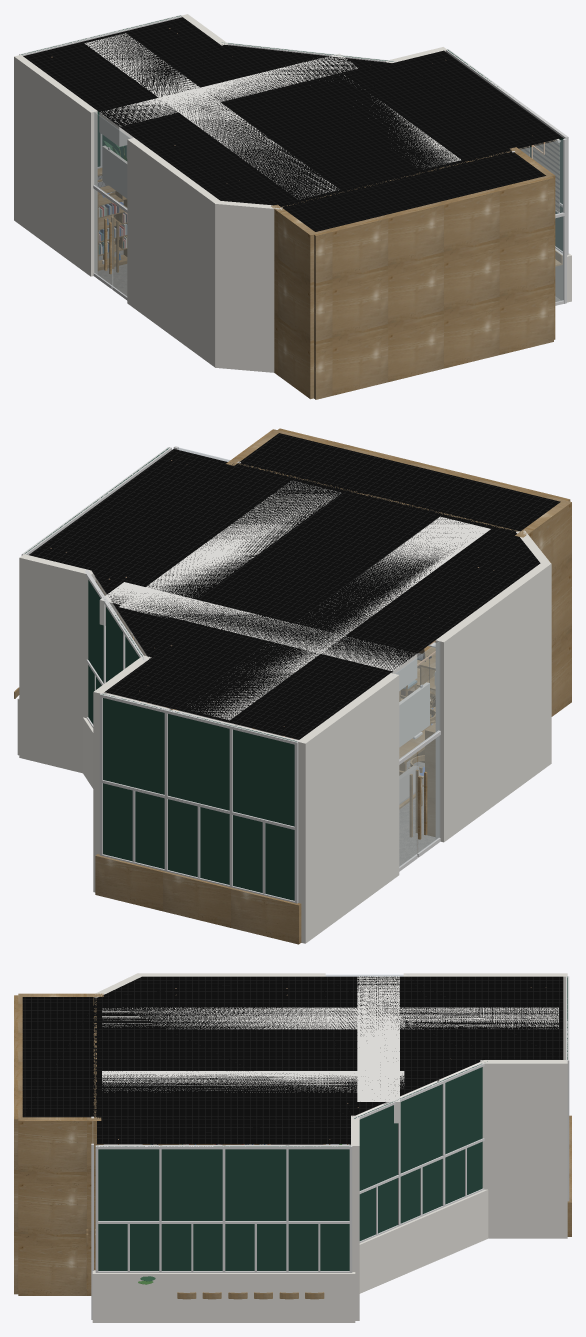
The model's file is coffee_shop.glb.
3 renders of one model, top to bottom at view 1: azimuth 30°, elevation 25°; view 2: azimuth 150°, elevation 25°; view 3: azimuth 270°, elevation 25°, orthographic. The views are drawn at different scales.
Parts seen in each view (by area): view 1: Ceiling_Grid, Wall_7, Wall_10, Wall_12, Ceiling_Soffits, Wall_9, Wall_8, Door_door_left, Wall_Window_4, Door_door_right, Divider_Bookshelf, Wall_Window_0 (+4 smaller); view 2: Ceiling_Grid, Wall_Window_0, Wall_10, Wall_12, Ceiling_Soffits, Wall_3, Door_door_left, Wall_8, Wall_Window_2, Wall_1, Wall_7, Entrance_Lightbox (+4 smaller); view 3: Ceiling_Grid, Wall_Window_4, Wall_Window_2, Ceiling_Soffits, Wall_1, Wall_6, Wall_7, Wall_3, Wall_Window_0, Wall_12, Wall_10, Door_door_right.
Boxes of the visible parts, box(x1,y1,x2,y2) form: Ceiling_Grid: box(23, 17, 562, 231); Wall_7: box(313, 175, 553, 399); Wall_10: box(127, 138, 220, 367); Wall_12: box(14, 55, 97, 276); Ceiling_Soffits: box(84, 33, 460, 199); Wall_9: box(215, 200, 282, 372); Wall_8: box(271, 204, 315, 399); Door_door_left: box(91, 109, 130, 300); Wall_Window_4: box(446, 49, 571, 302); Door_door_right: box(512, 138, 566, 305); Divider_Bookshelf: box(97, 185, 127, 270); Wall_Window_0: box(19, 15, 181, 187); Ceiling_Grid: box(29, 433, 560, 739); Wall_Window_0: box(95, 693, 301, 944); Wall_10: box(435, 562, 551, 842); Wall_12: box(298, 673, 399, 943); Ceiling_Soffits: box(99, 481, 490, 728); Wall_3: box(19, 554, 95, 773); Door_door_left: box(392, 641, 440, 871); Wall_8: box(515, 501, 571, 716); Wall_Window_2: box(83, 570, 152, 788); Wall_1: box(93, 655, 151, 892); Wall_7: box(277, 428, 570, 502); Entrance_Lightbox: box(399, 682, 429, 747); Ceiling_Grid: box(22, 976, 563, 1144); Wall_Window_4: box(92, 1145, 355, 1322); Wall_Window_2: box(349, 1060, 488, 1293); Ceiling_Soffits: box(102, 976, 558, 1123); Wall_1: box(480, 1060, 567, 1238); Wall_6: box(18, 1117, 101, 1295); Wall_7: box(14, 995, 22, 1294); Wall_3: box(351, 1115, 359, 1320); Wall_Window_0: box(566, 976, 571, 1236); Wall_12: box(403, 973, 567, 1081); Wall_10: box(137, 973, 325, 1144); Door_door_right: box(86, 1116, 95, 1319).
Size of the model in its own units: 10.21 by 4.5 by 13.
Materials: 58 (13 with a texture image).
